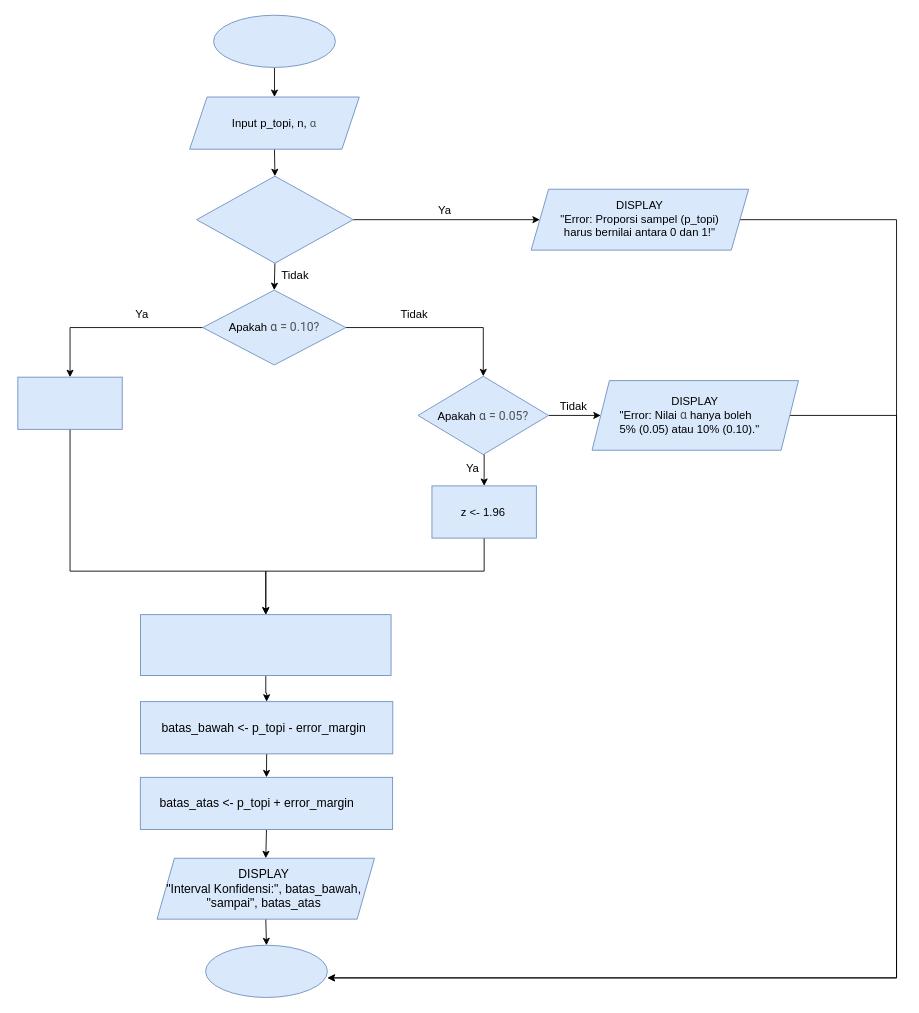
Image size: 919x1013. Some labels were removed from this diagram. Each missing label, with the centre of its shape:
"Apakah p_topi < 0 atau p_topi > 1?" belongs at point (274, 219).
"error_margin <- z * sqrt((p_topi * (1 - p_topi))/n" belongs at point (265, 645).
"Mulai" belongs at point (274, 40).
"Selesai" belongs at point (266, 970).
"z <- 1.645" belongs at point (69, 402).
